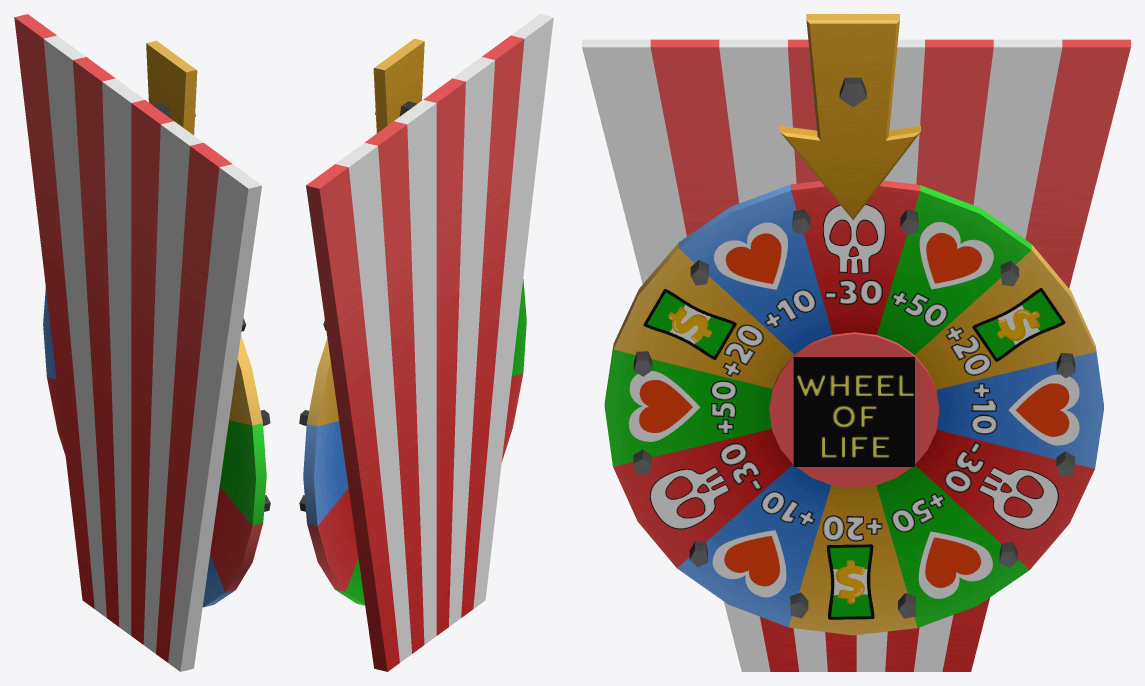
The model's file is wheel.fbx.
3 views of the same model, side by side, from view 1: azimuth 30°, elevation 25°; view 2: azimuth 150°, elevation 25°; view 3: azimuth 270°, elevation 25° (orthographic). The views are drawn at different scales.
Visible parts, largest first — view 1: BG, Wheel, Arrow; view 2: BG, Wheel, Arrow; view 3: Wheel, BG, Arrow, Wheel_of_Life_center, Low_Heart_3, Heart_2, Heart_3, Low_Heart_1, Low_Heart_2, Heart_1, Dollar_2, Dollar_3 (+16 smaller).
Boxes of the visible parts, x1=… form: BG: x1=14, y1=14, x2=261, y2=671; Wheel: x1=43, y1=287, x2=270, y2=607; Arrow: x1=146, y1=40, x2=197, y2=135; BG: x1=306, y1=14, x2=553, y2=671; Wheel: x1=299, y1=279, x2=526, y2=605; Arrow: x1=373, y1=38, x2=424, y2=133; Wheel: x1=604, y1=180, x2=1103, y2=635; BG: x1=582, y1=39, x2=1130, y2=671; Arrow: x1=779, y1=14, x2=920, y2=219; Wheel_of_Life_center: x1=793, y1=357, x2=914, y2=466; Low_Heart_3: x1=712, y1=530, x2=786, y2=597; Heart_2: x1=919, y1=222, x2=993, y2=289; Heart_3: x1=918, y1=531, x2=992, y2=598; Low_Heart_1: x1=714, y1=222, x2=787, y2=289; Low_Heart_2: x1=1008, y1=374, x2=1079, y2=445; Heart_1: x1=628, y1=371, x2=700, y2=441; Dollar_2: x1=827, y1=544, x2=874, y2=619; Dollar_3: x1=643, y1=289, x2=736, y2=359.
Size of the model in its own units: 10.67 by 102 by 75.67.
6 materials, 6 textured.
